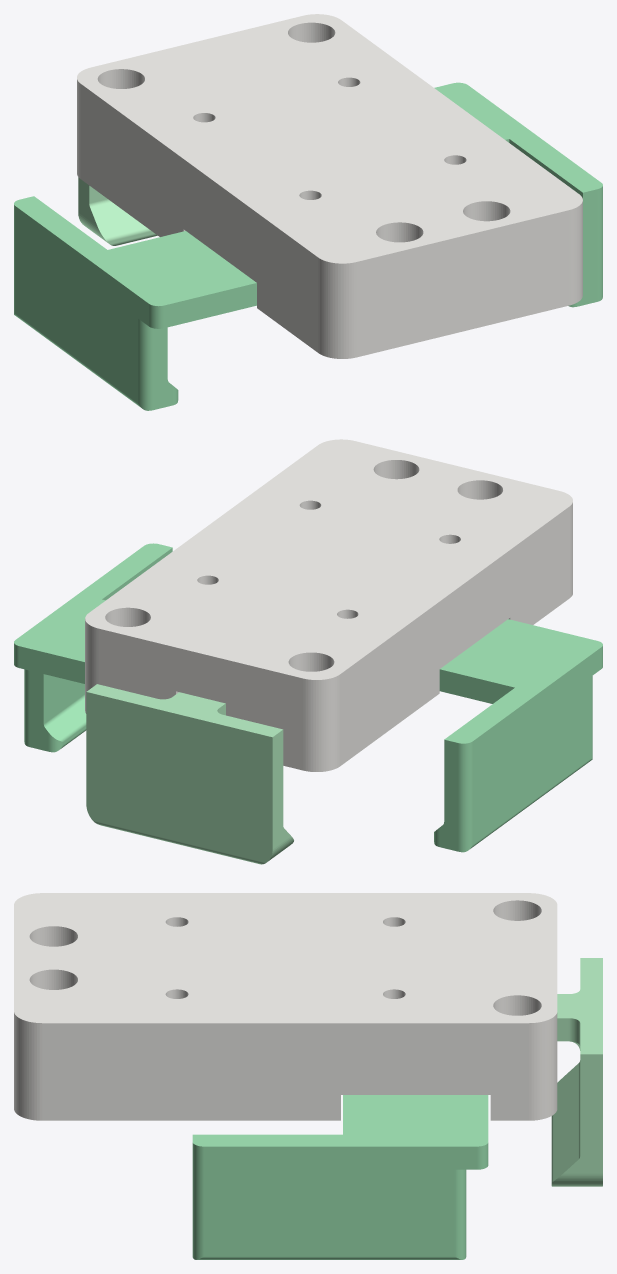
Rendered from preview_mech_open.glb.
The picture shows the model from 3 angles, top to bottom: view 1: azimuth 30°, elevation 25°; view 2: azimuth 150°, elevation 25°; view 3: azimuth 270°, elevation 25°; orthographic projection. The views are drawn at different scales.
Parts seen in each view (by area): view 1: base, arm_l, arm_r, foot; view 2: base, foot, arm_l, arm_r; view 3: base, arm_r, foot.
Part boxes in pixels (bbox=[...]): base: bbox=[77, 14, 582, 358]; arm_l: bbox=[14, 196, 256, 410]; arm_r: bbox=[434, 82, 602, 307]; foot: bbox=[78, 177, 157, 245]; base: bbox=[85, 439, 572, 771]; foot: bbox=[86, 684, 293, 864]; arm_l: bbox=[434, 619, 602, 852]; arm_r: bbox=[14, 543, 172, 752]; base: bbox=[14, 893, 557, 1120]; arm_r: bbox=[192, 1095, 488, 1259]; foot: bbox=[551, 958, 602, 1186].
Bounding box in the file's own units: 96 × 36.4 × 103.
